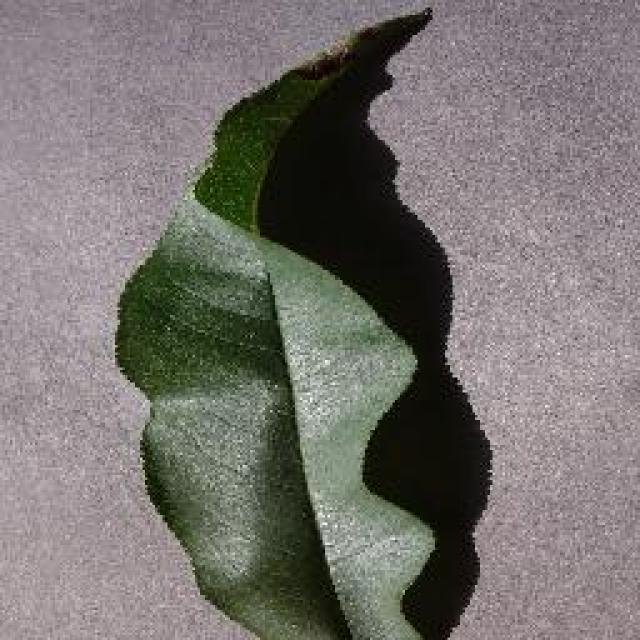Pea_healthy: (126, 73, 442, 586)
